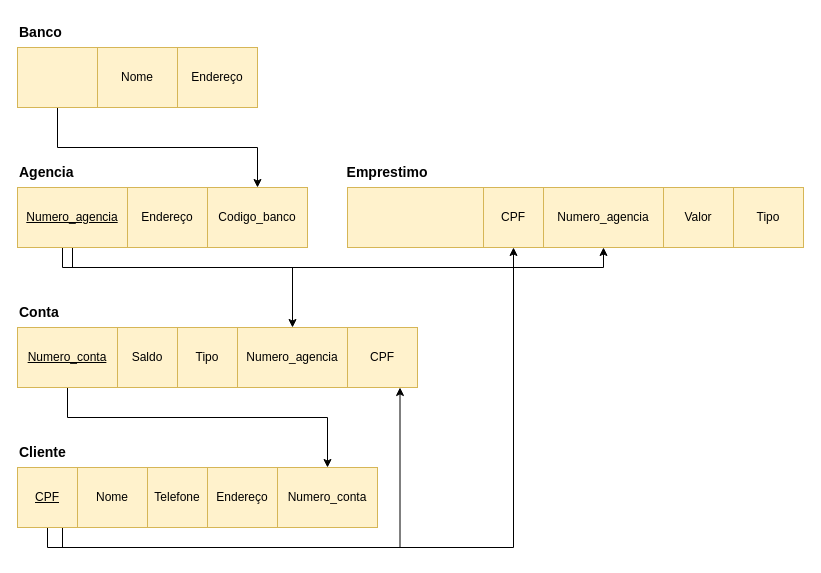
Some shapes in this 821 by 573 pixel diagram are drawn without their labels. The centre of each missing label's shape, as x and y in pixels:
"Codigo" belongs at (x=57, y=77).
"Numero_emprestimo" belongs at (x=415, y=217).
